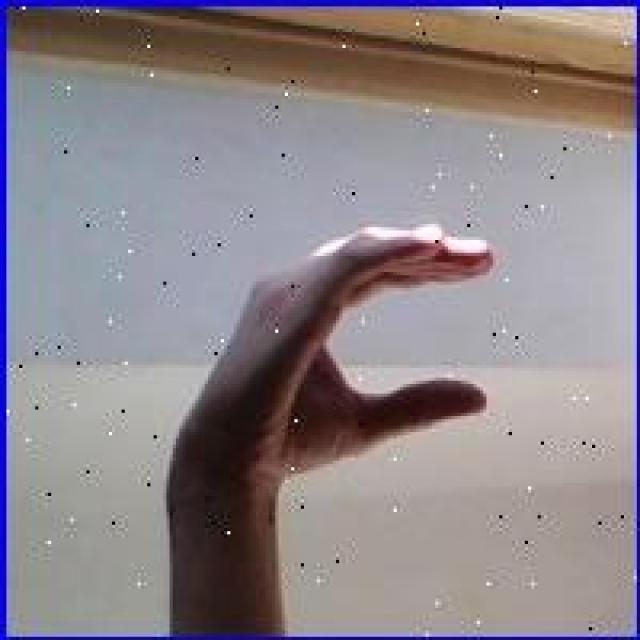C: (176, 219, 502, 498)
